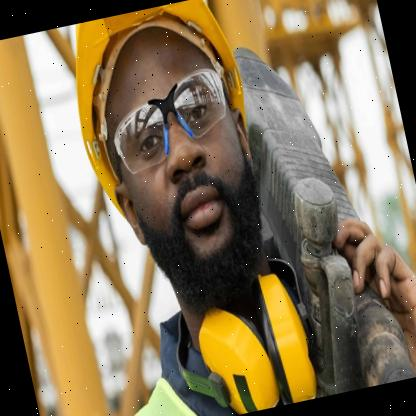oculos: (104, 65, 237, 176)
